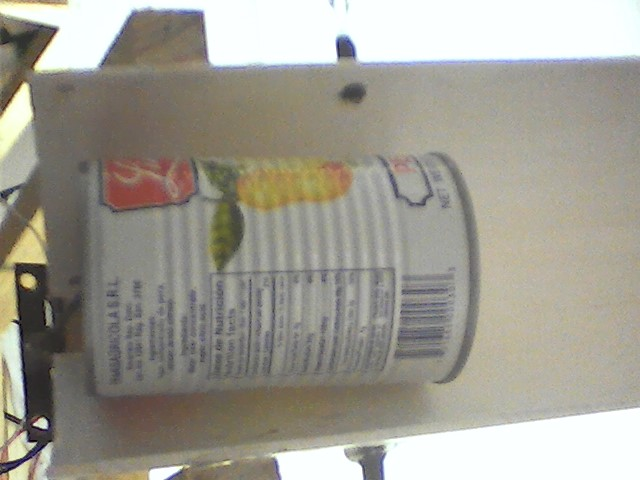lata: (70, 150, 483, 402)
